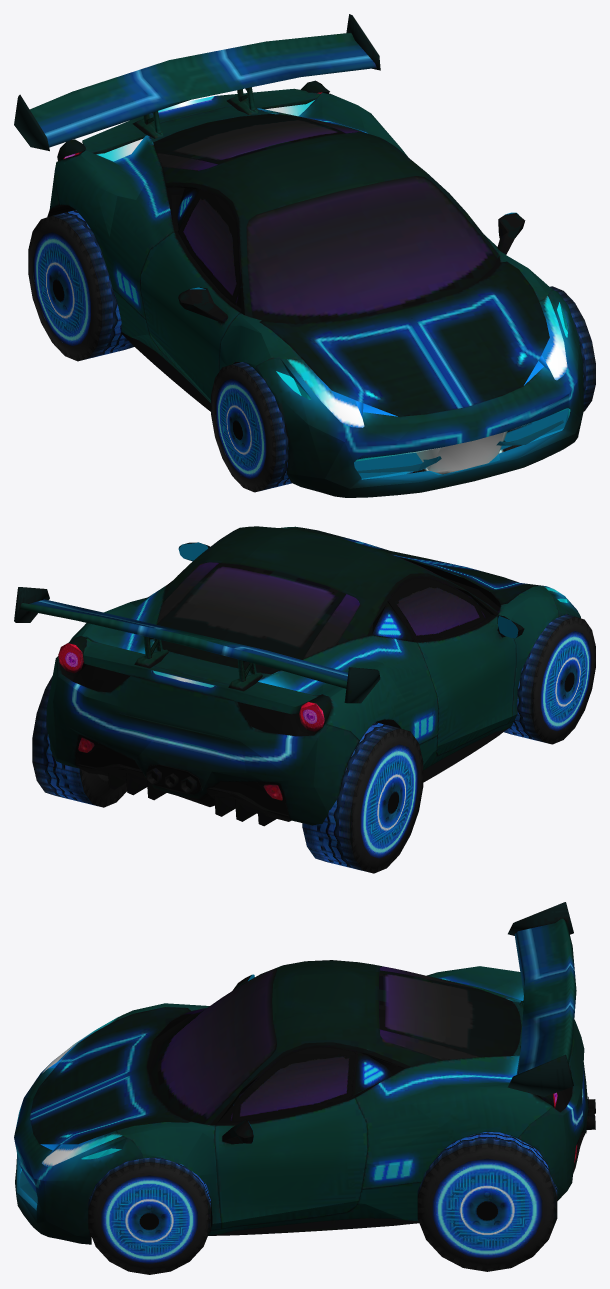
File: Car 16.glb
3 views of the same model, one above another, from view 1: azimuth 30°, elevation 25°; view 2: azimuth 150°, elevation 25°; view 3: azimuth 270°, elevation 25° (orthographic). The views are drawn at different scales.
Visible parts, largest first — view 1: carBody_low_035, Car21Gear_001, tireBackL_low_029, tireFrontR_low_026, Car21Wheel1_001; view 2: carBody_low_035, tireBackL_low_029, tireFrontR_low_026, Car21Gear_001, tireBackL_low_028; view 3: carBody_low_035, tireBackL_low_028, Car21Wheel1_001, Car21Gear_001.
Boxes of the visible parts, <box> form: carBody_low_035: <box>47,80,583,497</box>; Car21Gear_001: <box>14,14,380,151</box>; tireBackL_low_029: <box>28,210,134,361</box>; tireFrontR_low_026: <box>211,362,291,492</box>; Car21Wheel1_001: <box>550,286,595,411</box>; carBody_low_035: <box>46,526,580,826</box>; tireBackL_low_029: <box>302,722,423,873</box>; tireFrontR_low_026: <box>504,614,595,744</box>; Car21Gear_001: <box>14,587,380,703</box>; tireBackL_low_028: <box>32,676,126,807</box>; carBody_low_035: <box>14,960,595,1244</box>; tireBackL_low_028: <box>417,1132,557,1271</box>; Car21Wheel1_001: <box>88,1157,210,1274</box>; Car21Gear_001: <box>507,902,576,1096</box>.
Size of the model in its own units: 0.7147 by 0.4658 by 1.1.
Materials: 3 (3 with a texture image).
